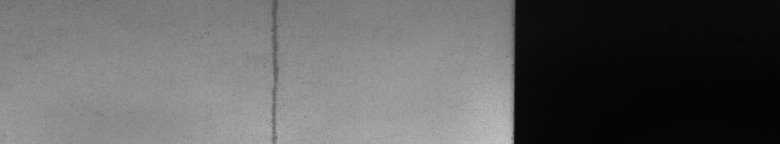hd: (264, 4, 283, 136)
